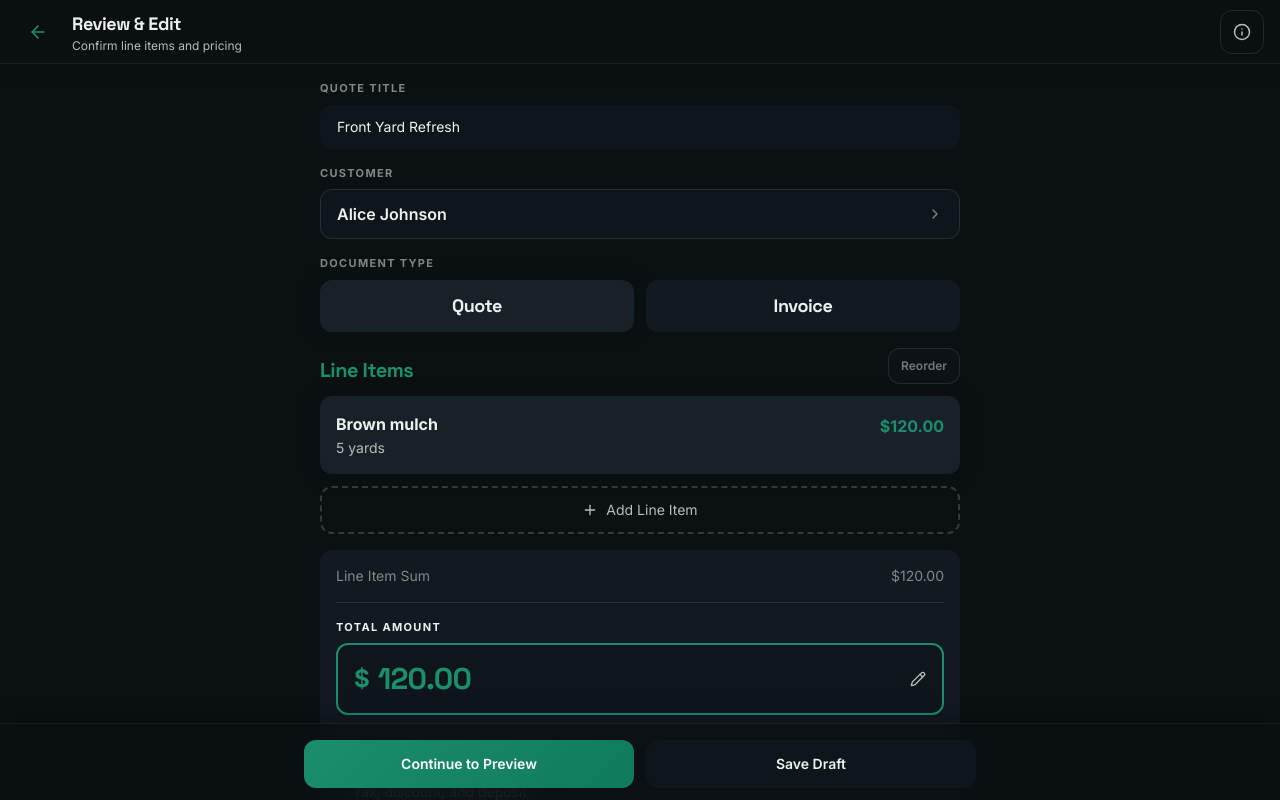
DocumentEditScreen › switches to invoice mode in-place with due-date field and Create Invoice CTA
Click the radio button labelled "Invoice" at (803, 306), box top-left (646, 280), bottom-right (960, 332)
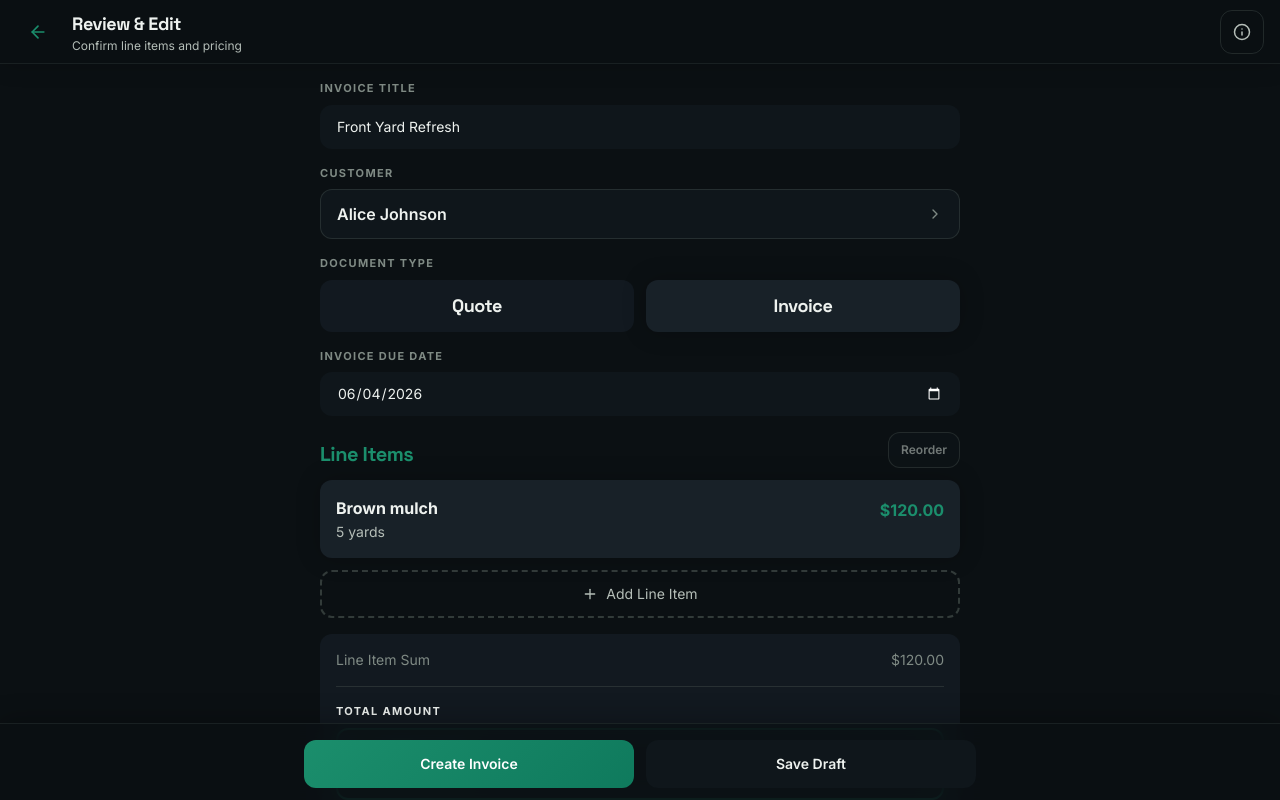
Expected: the date field named "invoice due date" is shown, top-left (337, 384), bottom-right (943, 404)
Expected: the button "Create Invoice" is shown, top-left (304, 740), bottom-right (634, 788)
Expected: the button "Continue to Preview" is gone
